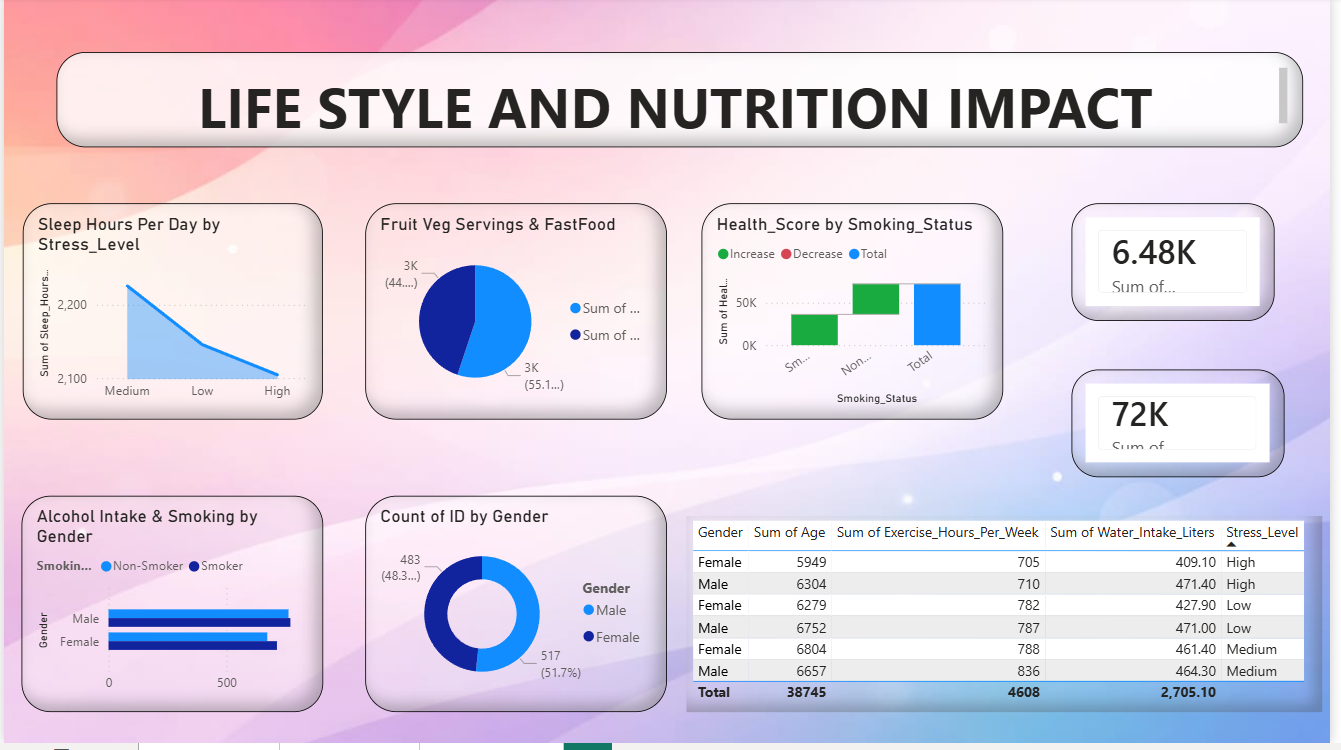

What the dashboard file says about the page in this screenshot:
{"tool":"powerbi","page":{"name":"MILESTONE 4","canvas":[1280,720],"ordinal":2},"visuals":[{"type":"textbox","box":[50.8,53.5,1203.4,91.9],"z":0},{"type":"stackedAreaChart","title":"Sleep Hours Per Day by Stress_Level","fields":{"Category":["Sheet1.Stress_Level"],"Y":["Sum(Sheet1.Sleep_Hours_Per_Day)"]},"box":[17.8,199,289.5,208.6],"z":1000},{"type":"donutChart","fields":{"Category":["Sheet1.Gender"],"Y":["CountNonNull(Sheet1.ID)"]},"box":[348.5,481.6,290.9,208.6],"z":2000},{"type":"waterfallChart","title":"Health_Score by Smoking_Status","fields":{"Category":["Sheet1.Smoking_Status"],"Y":["Sum(Sheet1.Health_Score)"]},"box":[673.8,199,290.9,208.6],"z":3000},{"type":"clusteredBarChart","title":"Alcohol Intake   & Smoking by Gender","fields":{"Category":["Sheet1.Gender"],"Y":["Sum(Sheet1.Alcohol_Intake_Per_Week)"],"Series":["Sheet1.Smoking_Status"]},"box":[16.5,481.6,290.9,208.6],"z":4000},{"type":"pieChart","title":" Fruit Veg Servings & FastFood ","fields":{"Y":["Sum(Sheet1.Fruit_Veg_Servings_Per_Day)","Sum(Sheet1.FastFood_Frequency_Per_Week)"]},"box":[348.5,199,290.9,208.6],"z":5000},{"type":"tableEx","fields":{"Values":["Sheet1.Gender","Sum(Sheet1.Age)","Sum(Sheet1.Exercise_Hours_Per_Week)","Sum(Sheet1.Water_Intake_Liters)","Sheet1.Stress_Level"]},"box":[658.7,500.9,613.4,189.4],"z":6000},{"type":"cardVisual","fields":{"Data":["Sum(Sheet1.Sleep_Hours_Per_Day)"]},"box":[1030.5,199,196.2,113.9],"z":7000},{"type":"cardVisual","fields":{"Data":["Sum(Sheet1.Health_Score)"]},"box":[1030.5,359.5,205.8,104.3],"z":8000}]}

Visuals, with their boxes in screenshot pixels (x1, y1, x2, y2), scaled from the page's 1280x720 canvas onto the 1341x750 screenshot:
textbox: Rect(53, 56, 1314, 151)
"Sleep Hours Per Day by Stress_Level" stackedAreaChart: Rect(19, 207, 322, 425)
donutChart - Sheet1.Gender x CountNonNull(Sheet1.ID): Rect(365, 502, 670, 719)
"Health_Score by Smoking_Status" waterfallChart: Rect(706, 207, 1011, 425)
"Alcohol Intake   & Smoking by Gender" clusteredBarChart: Rect(17, 502, 322, 719)
" Fruit Veg Servings & FastFood " pieChart: Rect(365, 207, 670, 425)
tableEx - Sheet1.Gender x Sum(Sheet1.Age): Rect(690, 522, 1333, 719)
cardVisual - Sum(Sheet1.Sleep_Hours_Per_Day): Rect(1080, 207, 1285, 326)
cardVisual - Sum(Sheet1.Health_Score): Rect(1080, 374, 1295, 483)
